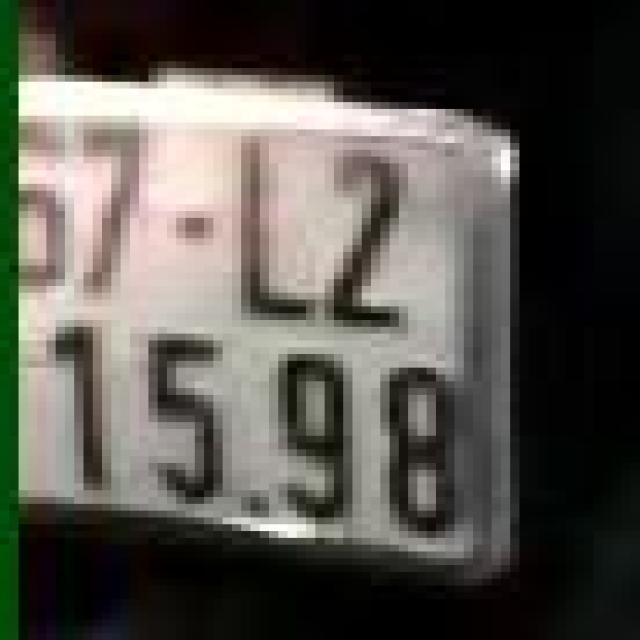1: (47, 317, 120, 495)
2: (332, 137, 421, 342)
5: (140, 323, 231, 511)
6: (0, 102, 83, 299)
7: (72, 112, 149, 307)
8: (379, 357, 471, 542)
9: (269, 344, 366, 527)
L: (225, 128, 327, 333)
